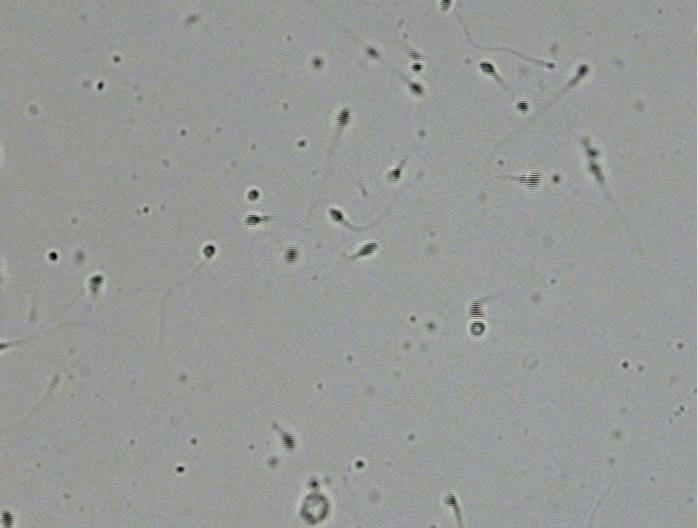Impurity: (300, 478, 330, 524)
S: (520, 172, 541, 187), (469, 300, 486, 318), (88, 274, 104, 293), (279, 431, 295, 449), (336, 109, 351, 128), (358, 243, 378, 256), (479, 61, 496, 76), (284, 246, 297, 265), (1, 510, 14, 528), (470, 321, 485, 336), (408, 82, 424, 96), (443, 492, 457, 507), (244, 215, 262, 226), (387, 167, 401, 181), (329, 209, 343, 222), (585, 145, 599, 158), (408, 49, 424, 60), (203, 244, 215, 258), (577, 64, 589, 78), (517, 101, 529, 114), (247, 189, 260, 201), (589, 163, 601, 176), (439, 1, 452, 12), (366, 47, 379, 58), (411, 63, 422, 72), (313, 58, 322, 67), (1, 342, 5, 350)
